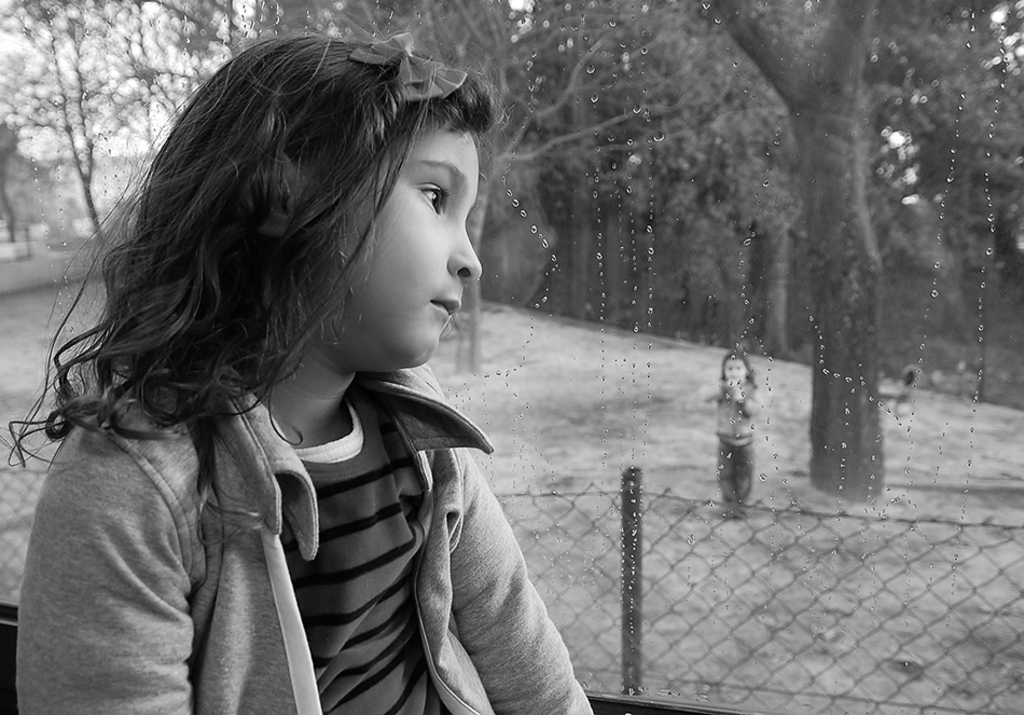Human_hand: (732, 384, 744, 397)
